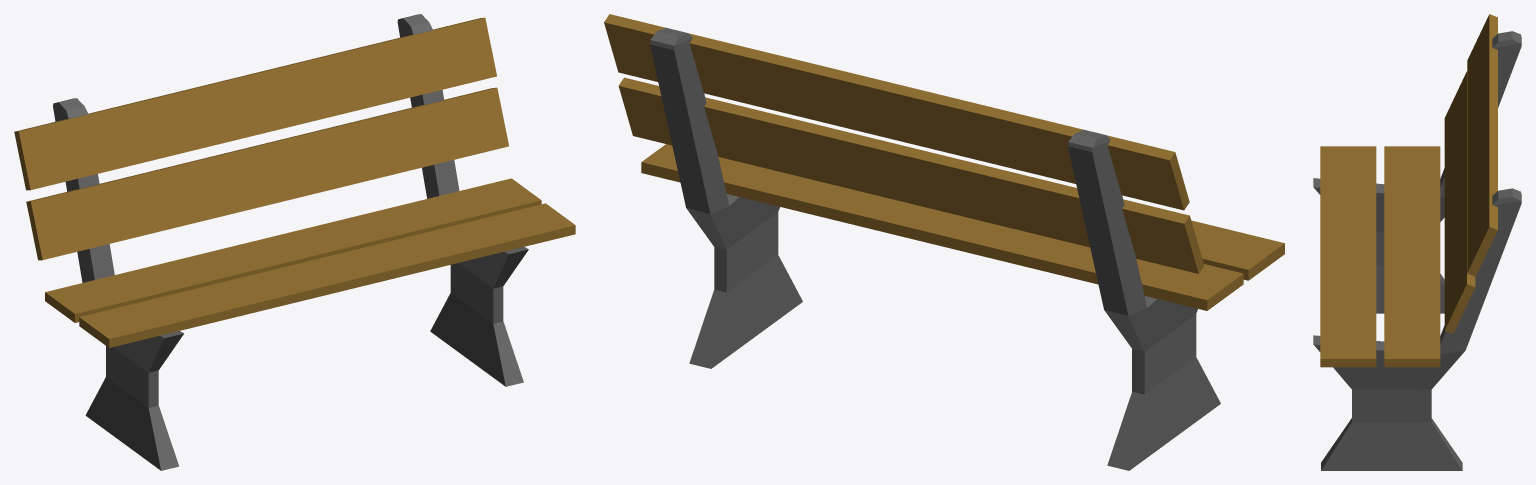
File: bankje.fbx
3 renders of one model, left to right at view 1: azimuth 30°, elevation 25°; view 2: azimuth 150°, elevation 25°; view 3: azimuth 270°, elevation 25°, orthographic. The views are drawn at different scales.
Parts seen in each view (by area): view 1: Cube.006, Cube.005, Cube.003, Cube.002, Cube.001, Cube.004; view 2: Cube.005, Cube.006, Cube.004, Cube.001, Cube.002, Cube.003; view 3: Cube.001, Cube.002, Cube.003, Cube.005, Cube.006, Cube.004.
Part boxes in pixels (<box>): Cube.006: <box>26,87,508,260</box>; Cube.005: <box>14,17,496,190</box>; Cube.003: <box>79,203,575,347</box>; Cube.002: <box>45,178,541,322</box>; Cube.001: <box>397,14,528,386</box>; Cube.004: <box>53,98,183,470</box>; Cube.005: <box>604,14,1189,210</box>; Cube.006: <box>618,77,1204,273</box>; Cube.004: <box>1068,129,1220,470</box>; Cube.001: <box>650,27,802,368</box>; Cube.002: <box>641,144,1243,310</box>; Cube.003: <box>1191,220,1284,280</box>; Cube.001: <box>1313,188,1521,470</box>; Cube.002: <box>1384,146,1440,367</box>; Cube.003: <box>1320,146,1376,367</box>; Cube.005: <box>1467,14,1497,276</box>; Cube.006: <box>1444,71,1475,333</box>; Cube.004: <box>1313,31,1521,313</box>.
Bounding box in the file's own units: 1956 × 1176 × 808.
